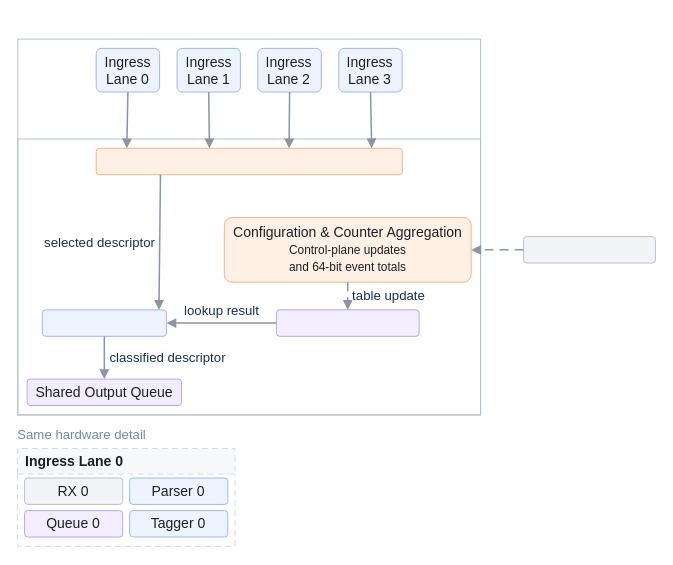
Image size: 673x565. Some labels were removed from this diagram. The shapes that lost their labels are listed below. From the top down, each one's box as (x1, y1, x2, y2) in pixels, then its label:
(95, 147, 402, 175): Shared Arbiter
(17, 38, 481, 415): Packet Ingress Engine
(523, 236, 655, 263): Management Host
(17, 138, 481, 415): Shared Services
(41, 309, 166, 336): Shared Classifier
(275, 309, 419, 336): Shared Route Table
